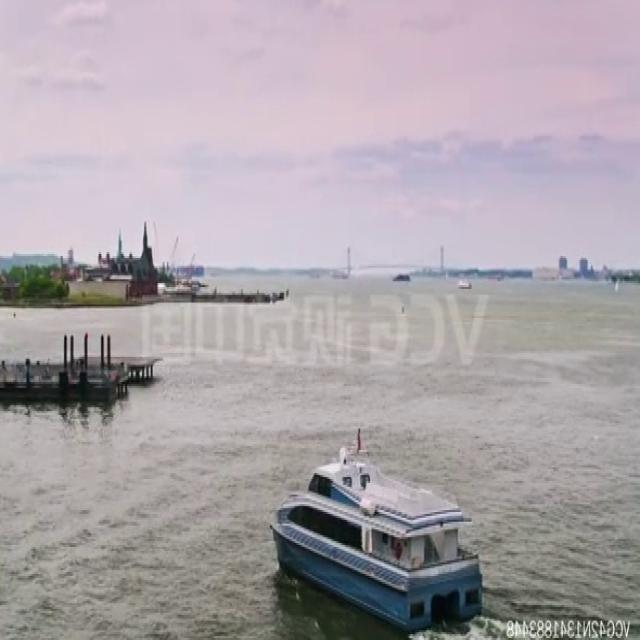houseboat: (270, 439, 482, 634), (457, 274, 473, 290)
